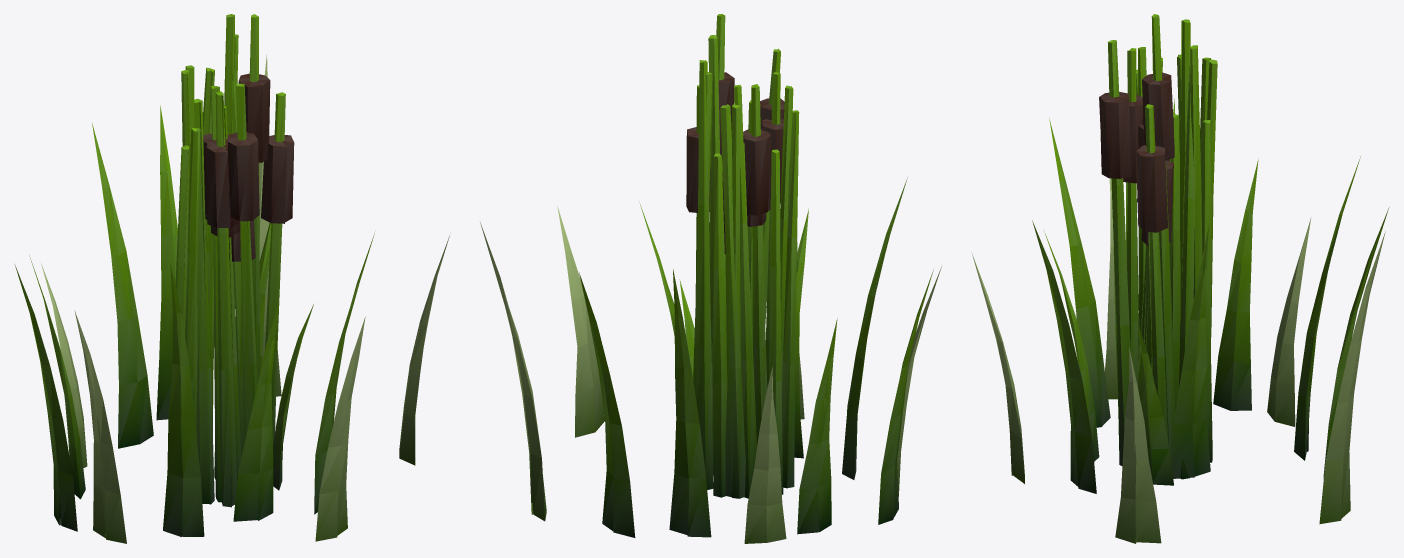
The model's file is vegetasi_reeds_moss_465293.glb.
The picture shows the model from 3 angles, left to right: view 1: azimuth 30°, elevation 25°; view 2: azimuth 150°, elevation 25°; view 3: azimuth 270°, elevation 25°; orthographic projection. The views are drawn at different scales.
Parts seen in each view (by area): view 1: Alang_Alang_Air_Sungai; view 2: Alang_Alang_Air_Sungai; view 3: Alang_Alang_Air_Sungai.
Part boxes in pixels (<box>): Alang_Alang_Air_Sungai: <box>14,14,449,543</box>; Alang_Alang_Air_Sungai: <box>480,14,941,543</box>; Alang_Alang_Air_Sungai: <box>972,14,1389,543</box>.
Bounding box in the file's own units: 2.51 × 2.73 × 2.26.
